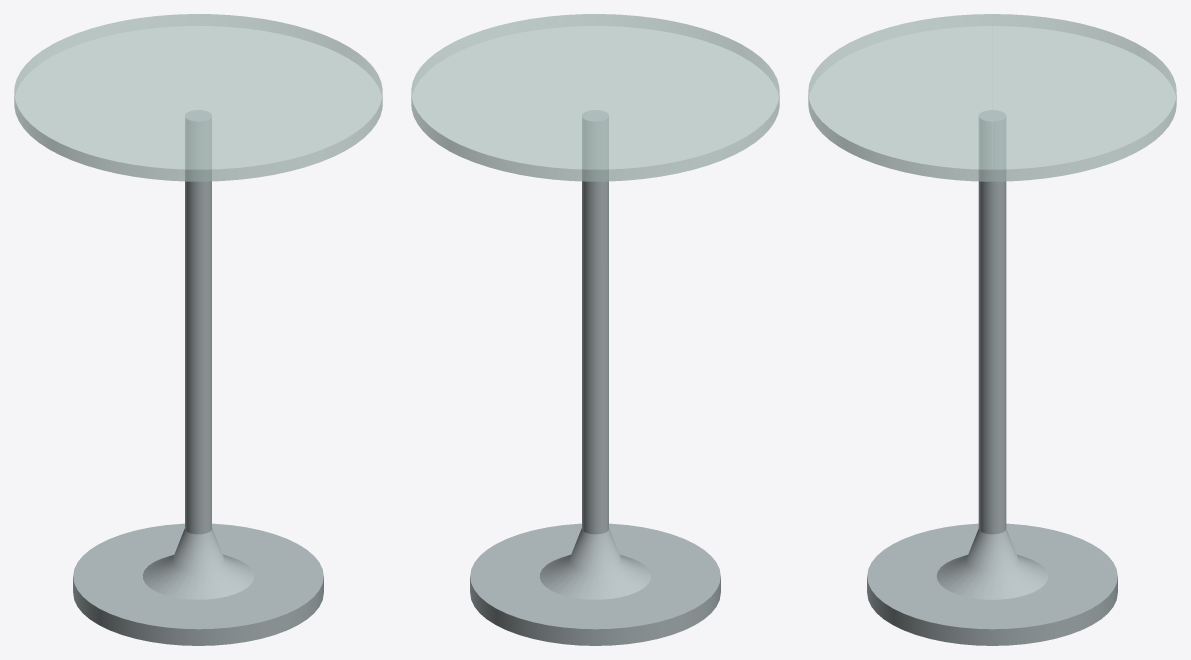
The model's file is prod-1773061941304-14xu6.glb.
The picture shows the model from 3 angles, left to right: view 1: azimuth 30°, elevation 25°; view 2: azimuth 150°, elevation 25°; view 3: azimuth 270°, elevation 25°; orthographic projection.
Visible parts, largest first — view 1: Round or oval tabletop.005, Pedestal foot.003; view 2: Round or oval tabletop.005, Pedestal foot.003; view 3: Round or oval tabletop.005, Pedestal foot.003.
Part boxes in pixels (x1,y1,x2,y2): Round or oval tabletop.005: (14,14,382,181); Pedestal foot.003: (73,110,323,645); Round or oval tabletop.005: (411,14,779,181); Pedestal foot.003: (470,110,720,645); Round or oval tabletop.005: (808,14,1176,181); Pedestal foot.003: (867,110,1117,645).
Bounding box in the file's own units: 0.7 × 1.05 × 0.7.
